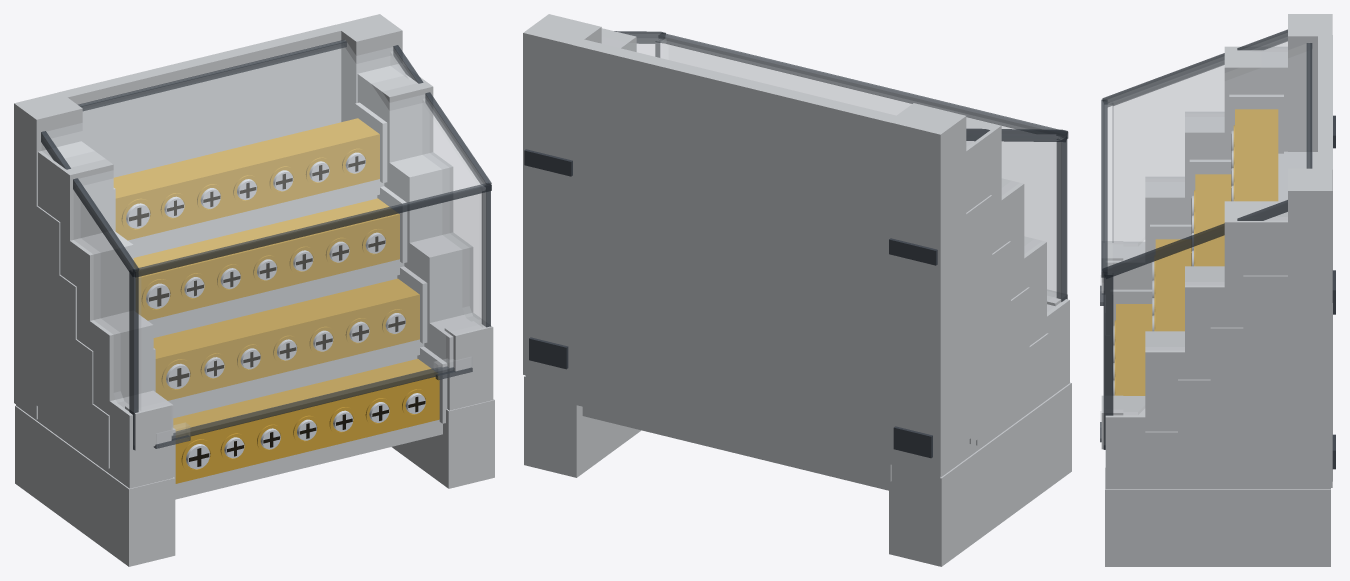
File: barramento-fases-escada-4p.glb
3 views of the same model, side by side, from view 1: azimuth 30°, elevation 25°; view 2: azimuth 150°, elevation 25°; view 3: azimuth 270°, elevation 25° (orthographic). The views are drawn at different scales.
Parts seen in each view (by area): view 1: stepped-pa66-frame, stepped-cover-polycarbonate, stepped-brass-bars, stepped-cover-rim, stepped-clamping-screws, stepped-bores-slots; view 2: stepped-pa66-frame, stepped-cover-polycarbonate, stepped-cover-rim, stepped-din-clips; view 3: stepped-pa66-frame, stepped-cover-polycarbonate, stepped-brass-bars, stepped-cover-rim, stepped-clamping-screws, stepped-din-clips.
Part boxes in pixels (bbox=[...]): stepped-pa66-frame: bbox=[14, 14, 494, 566]; stepped-cover-polycarbonate: bbox=[42, 40, 485, 447]; stepped-brass-bars: bbox=[113, 118, 439, 483]; stepped-cover-rim: bbox=[41, 40, 491, 450]; stepped-clamping-screws: bbox=[126, 152, 425, 469]; stepped-bores-slots: bbox=[129, 156, 425, 466]; stepped-pa66-frame: bbox=[523, 14, 1071, 566]; stepped-cover-polycarbonate: bbox=[602, 33, 1061, 311]; stepped-cover-rim: bbox=[614, 31, 1068, 301]; stepped-din-clips: bbox=[524, 149, 937, 458]; stepped-pa66-frame: bbox=[1101, 14, 1332, 566]; stepped-cover-polycarbonate: bbox=[1100, 33, 1312, 437]; stepped-brass-bars: bbox=[1114, 109, 1278, 395]; stepped-cover-rim: bbox=[1100, 29, 1312, 449]; stepped-clamping-screws: bbox=[1113, 130, 1233, 395]; stepped-din-clips: bbox=[1332, 115, 1335, 469].
Size of the model in its own units: 0.0888 by 0.088 by 0.05.
